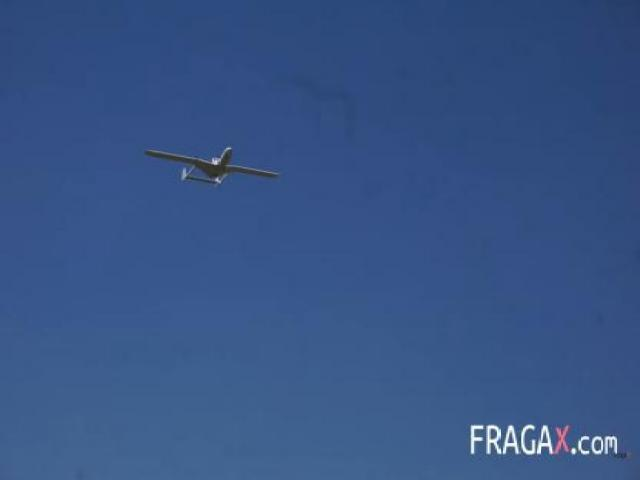uav: (136, 124, 289, 211)
